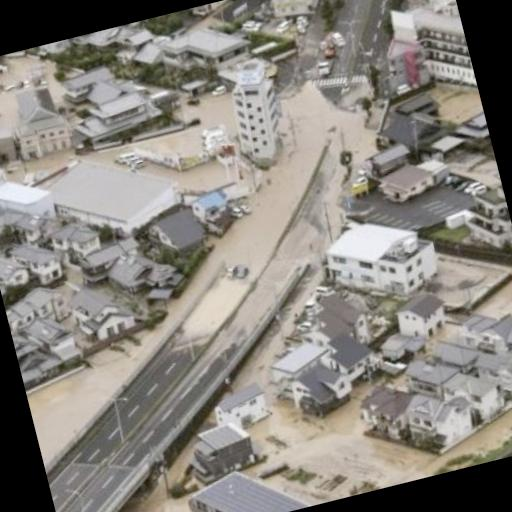flood: (27, 81, 512, 506), (79, 94, 237, 166), (437, 255, 512, 306), (135, 159, 228, 193), (121, 479, 189, 512), (431, 83, 484, 123), (470, 282, 512, 318), (0, 56, 47, 83), (168, 439, 194, 483)
house: (40, 142, 186, 260), (315, 202, 447, 320), (389, 0, 477, 101), (270, 340, 366, 425), (181, 453, 319, 512), (67, 60, 155, 145), (225, 75, 289, 168), (158, 23, 252, 86), (98, 241, 183, 307), (396, 388, 470, 460), (9, 92, 78, 168), (185, 416, 258, 482), (70, 281, 134, 345), (146, 204, 212, 266), (390, 285, 453, 349), (0, 172, 57, 240), (374, 104, 448, 156), (8, 233, 66, 295), (2, 283, 62, 331), (359, 382, 411, 436), (379, 161, 435, 206)
